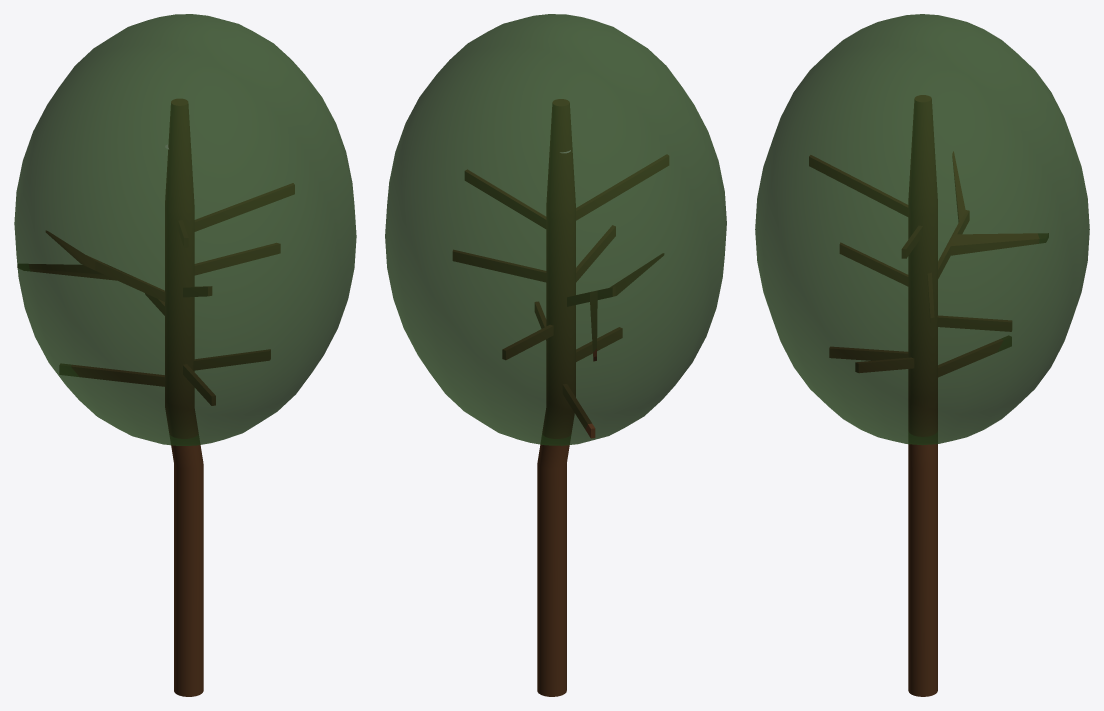
File: arbre3.fbx
3 views of the same model, side by side, from view 1: azimuth 30°, elevation 25°; view 2: azimuth 150°, elevation 25°; view 3: azimuth 270°, elevation 25° (orthographic).
Parts seen in each view (by area): view 1: pasted__polySurface4; view 2: pasted__polySurface4; view 3: pasted__polySurface4.
Part boxes in pixels (x1,y1,x2,y2): pasted__polySurface4: (14,14,356,696); pasted__polySurface4: (385,14,726,696); pasted__polySurface4: (755,14,1089,696).
Bounding box in the file's own units: 4.77 × 10.09 × 4.62.
